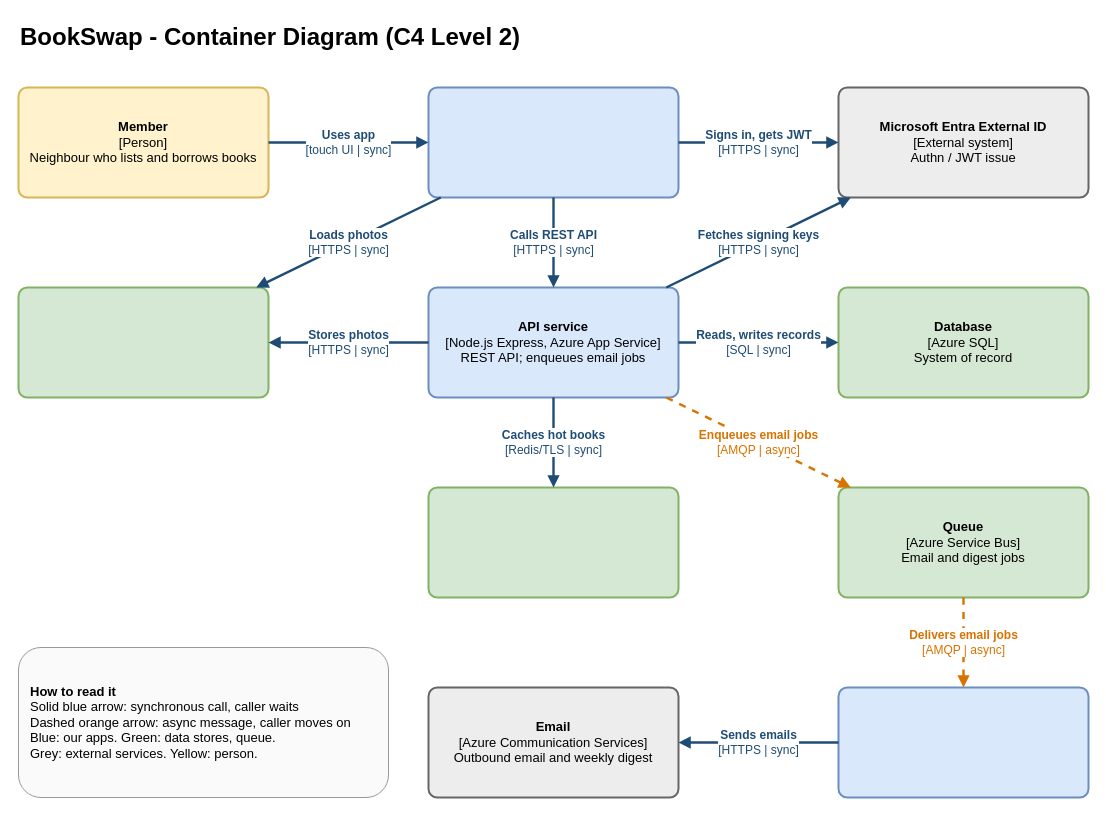
Some shapes in this 1106 by 815 pixel diagram are drawn without their labels. Each missing label, with the box of its shape:
Cache [Azure Cache for Redis] Hot read paths: (427, 486, 679, 598)
Email worker [Node.js WebJob, Azure App Service] Sends queued emails: (837, 686, 1089, 798)
Mobile app [React Native] Member-facing UI: (427, 86, 679, 198)
Object store [Azure Blob Storage] Book photos: (17, 286, 269, 398)
